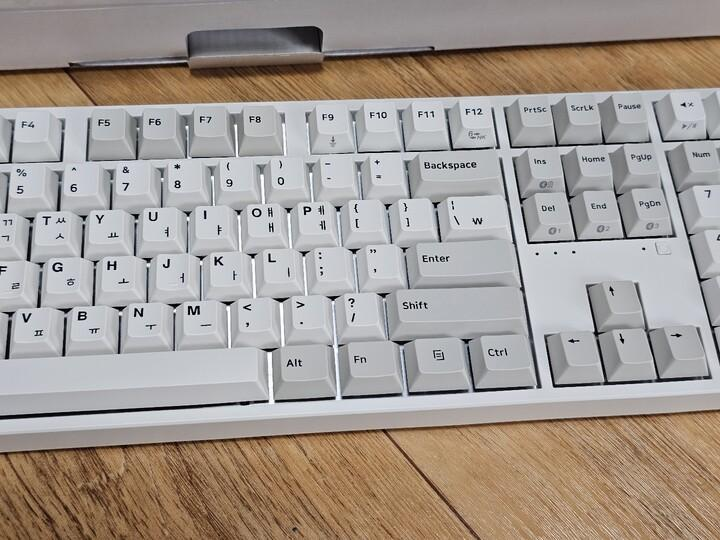keyboard: (0, 86, 719, 453)
